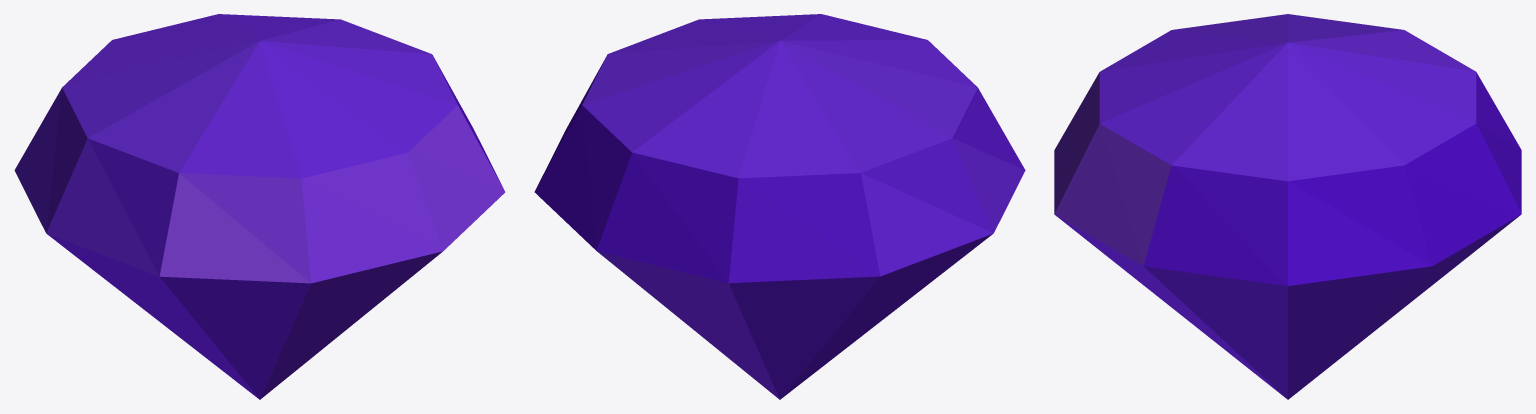
File: prop_treasure_gem_amethyst_2.fbx
3 renders of one model, left to right at view 1: azimuth 30°, elevation 25°; view 2: azimuth 150°, elevation 25°; view 3: azimuth 270°, elevation 25°, orthographic.
Parts seen in each view (by area): view 1: prop_treasure_gem_amethyst_2; view 2: prop_treasure_gem_amethyst_2; view 3: prop_treasure_gem_amethyst_2.
Boxes of the visible parts, x1,y1,x2,y2 form: prop_treasure_gem_amethyst_2: (14, 14, 505, 399); prop_treasure_gem_amethyst_2: (534, 14, 1025, 399); prop_treasure_gem_amethyst_2: (1054, 14, 1521, 399).
Size of the model in its own units: 0.5011 by 0.4021 by 0.4766.
